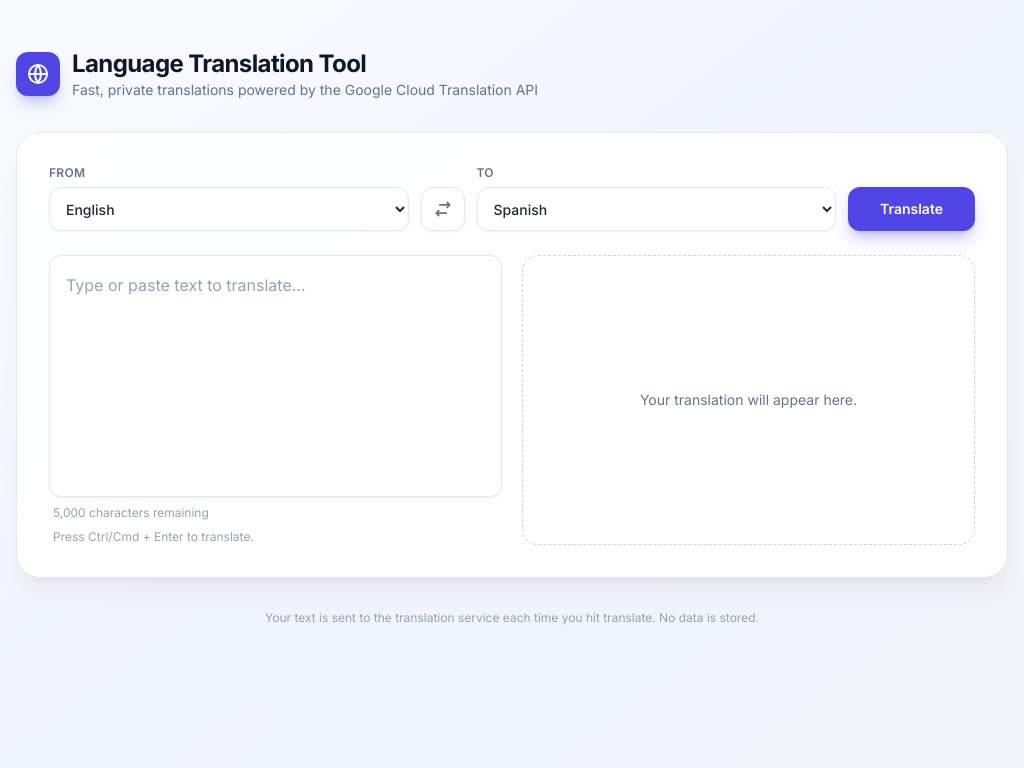
it: App › swaps the source and target languages
The width and height of the screenshot is (1024, 768).
Click the button named "swap languages" at (442, 209), box top-left (420, 187), bottom-right (464, 231)
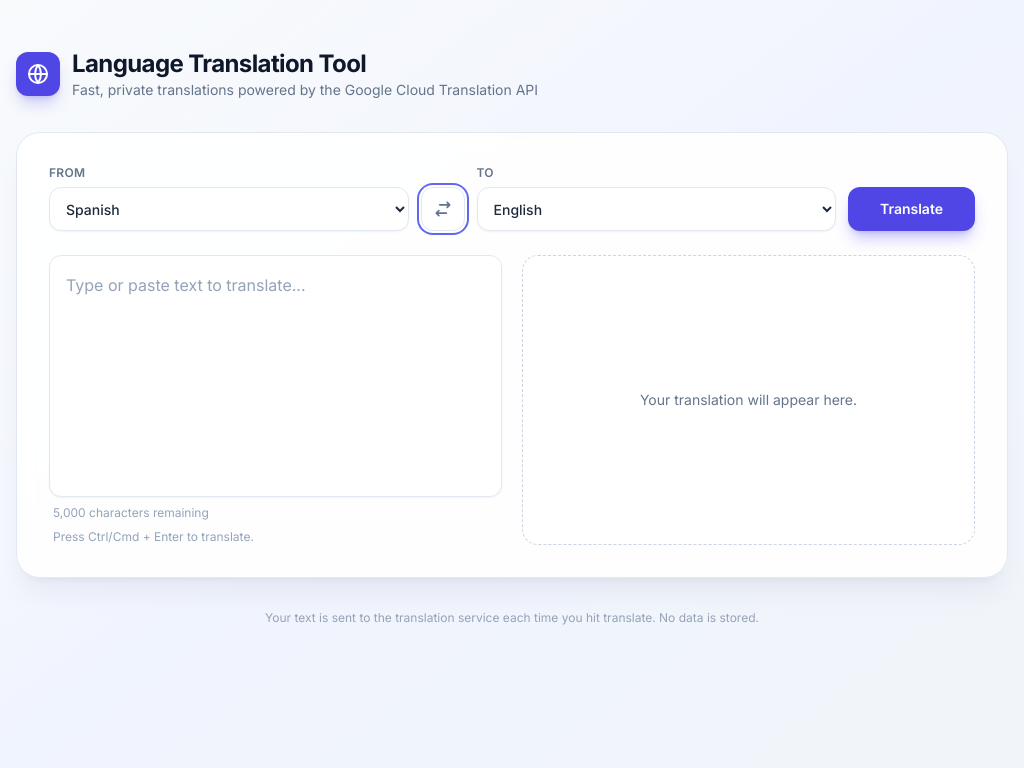
Now the dropdown labelled "From" shows "Spanish", box top-left (49, 187), bottom-right (408, 231)
Now the dropdown labelled "To" shows "English", box top-left (476, 187), bottom-right (836, 231)
